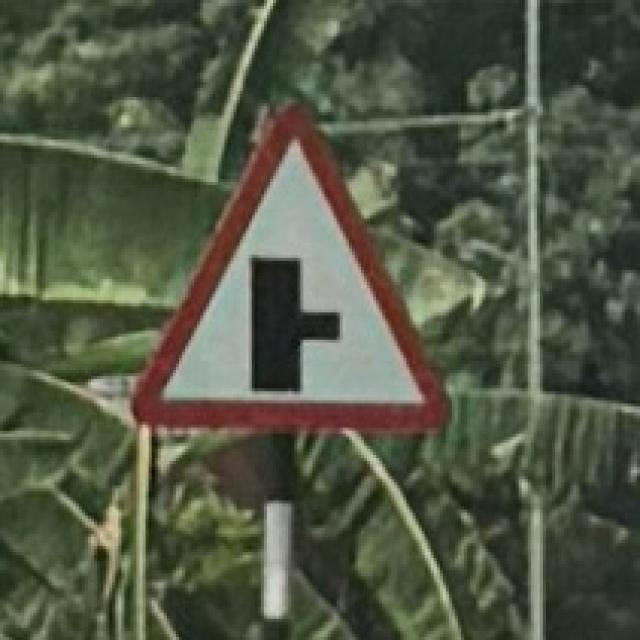SIDE_ROAD_RIGHT: (120, 84, 463, 444)
